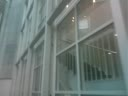window: (34, 5, 125, 96)
